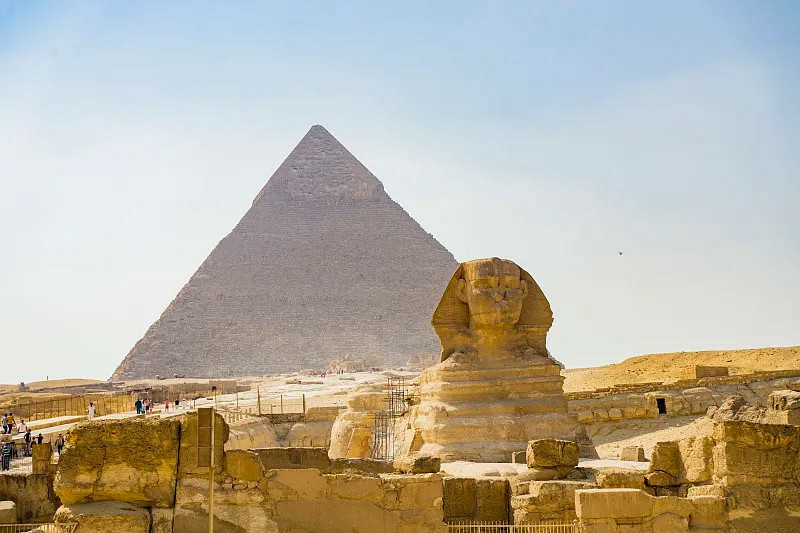Pyramid: (107, 125, 463, 382)
